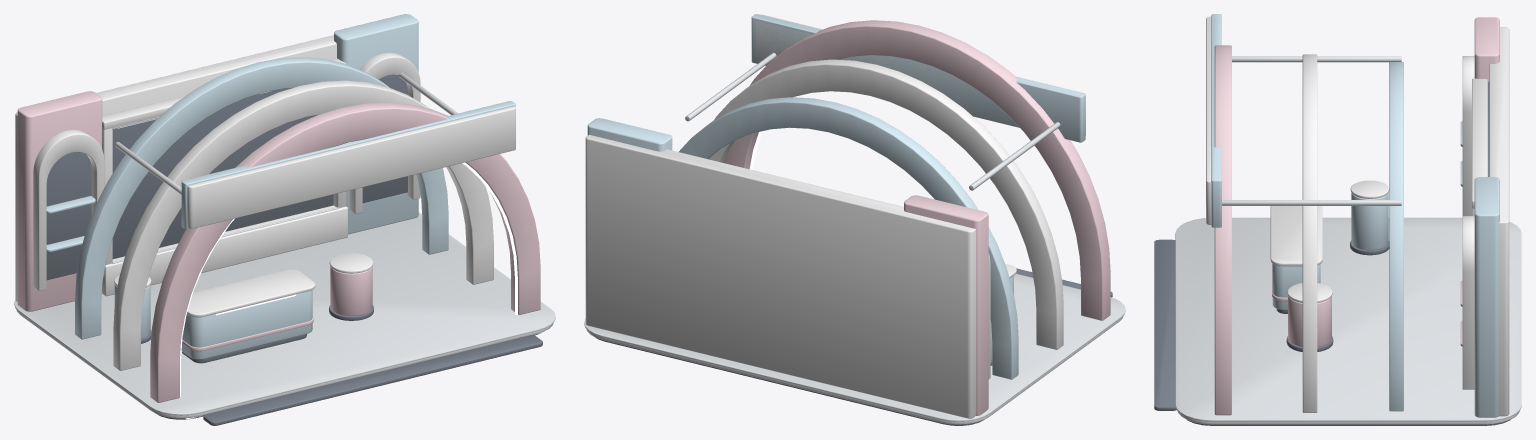
The model's file is booth_02_organic_flow_v4.glb.
3 views of the same model, side by side, from view 1: azimuth 30°, elevation 25°; view 2: azimuth 150°, elevation 25°; view 3: azimuth 270°, elevation 25° (orthographic). The views are drawn at different scales.
Visible parts, largest first — view 1: Booth02_OrganicFlow_Organic_Crisp_White, Booth02_OrganicFlow_Organic_Satin_Silver, Booth02_OrganicFlow_Organic_Sky_Blue, Booth02_OrganicFlow_Organic_Pastel_Pink, Booth02_OrganicFlow_Organic_Slate_Recess, Booth02_OrganicFlow_Organic_Light_Terrazzo, Booth02_OrganicFlow_Organic_Soft_LED; view 2: Booth02_OrganicFlow_Organic_Crisp_White, Booth02_OrganicFlow_Organic_Sky_Blue, Booth02_OrganicFlow_Organic_Pastel_Pink, Booth02_OrganicFlow_Organic_Satin_Silver, Booth02_OrganicFlow_Organic_Light_Terrazzo, Booth02_OrganicFlow_Organic_Slate_Recess; view 3: Booth02_OrganicFlow_Organic_Satin_Silver, Booth02_OrganicFlow_Organic_Crisp_White, Booth02_OrganicFlow_Organic_Sky_Blue, Booth02_OrganicFlow_Organic_Pastel_Pink, Booth02_OrganicFlow_Organic_Slate_Recess, Booth02_OrganicFlow_Organic_Light_Terrazzo.
Part boxes in pixels (<box>): Booth02_OrganicFlow_Organic_Crisp_White: <box>15,35,515,370</box>; Booth02_OrganicFlow_Organic_Satin_Silver: <box>14,72,555,415</box>; Booth02_OrganicFlow_Organic_Sky_Blue: <box>46,14,515,359</box>; Booth02_OrganicFlow_Organic_Pastel_Pink: <box>17,91,540,402</box>; Booth02_OrganicFlow_Organic_Slate_Recess: <box>46,75,542,425</box>; Booth02_OrganicFlow_Organic_Light_Terrazzo: <box>16,309,553,418</box>; Booth02_OrganicFlow_Organic_Soft_LED: <box>118,91,546,419</box>; Booth02_OrganicFlow_Organic_Crisp_White: <box>585,14,1085,418</box>; Booth02_OrganicFlow_Organic_Sky_Blue: <box>587,14,1085,379</box>; Booth02_OrganicFlow_Organic_Pastel_Pink: <box>723,20,1110,415</box>; Booth02_OrganicFlow_Organic_Satin_Silver: <box>584,52,1125,421</box>; Booth02_OrganicFlow_Organic_Light_Terrazzo: <box>586,316,1123,424</box>; Booth02_OrganicFlow_Organic_Slate_Recess: <box>595,268,1112,425</box>; Booth02_OrganicFlow_Organic_Satin_Silver: <box>1175,56,1521,421</box>; Booth02_OrganicFlow_Organic_Crisp_White: <box>1206,16,1509,416</box>; Booth02_OrganicFlow_Organic_Sky_Blue: <box>1211,14,1499,417</box>; Booth02_OrganicFlow_Organic_Pastel_Pink: <box>1214,17,1499,415</box>; Booth02_OrganicFlow_Organic_Slate_Recess: <box>1154,82,1509,425</box>; Booth02_OrganicFlow_Organic_Light_Terrazzo: <box>1177,411,1519,424</box>.
Bounding box in the file's own units: 7.2 × 4.32 × 5.52.
